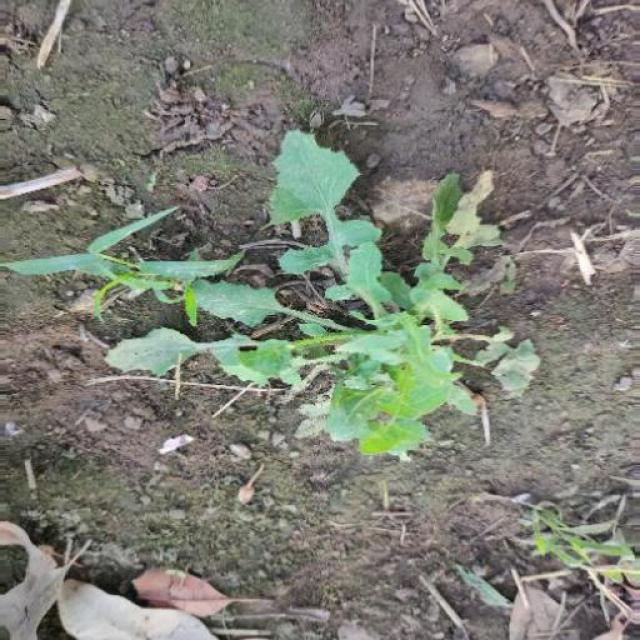weed: (48, 122, 544, 448)
